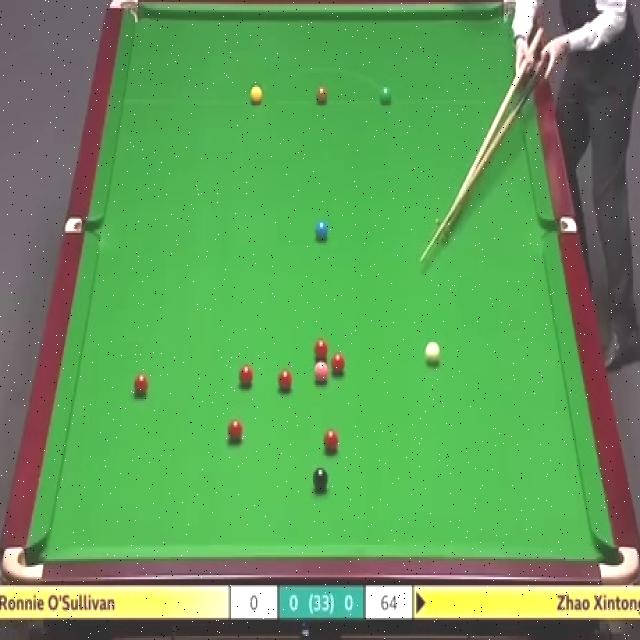black-ball: (314, 466, 328, 494)
blue-ball: (316, 221, 330, 242)
brown-ball: (315, 85, 328, 105)
green-ball: (380, 87, 392, 104)
pink-ball: (313, 360, 329, 386)
red-ball: (238, 361, 255, 388), (227, 419, 244, 444), (133, 372, 150, 397), (323, 428, 339, 453), (278, 369, 293, 392), (315, 338, 329, 362), (332, 352, 346, 376)
white-ball: (424, 341, 440, 366)
yellow-ball: (250, 86, 263, 106)
